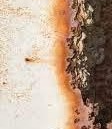Corrosion: (51, 1, 112, 129), (24, 57, 39, 63)
